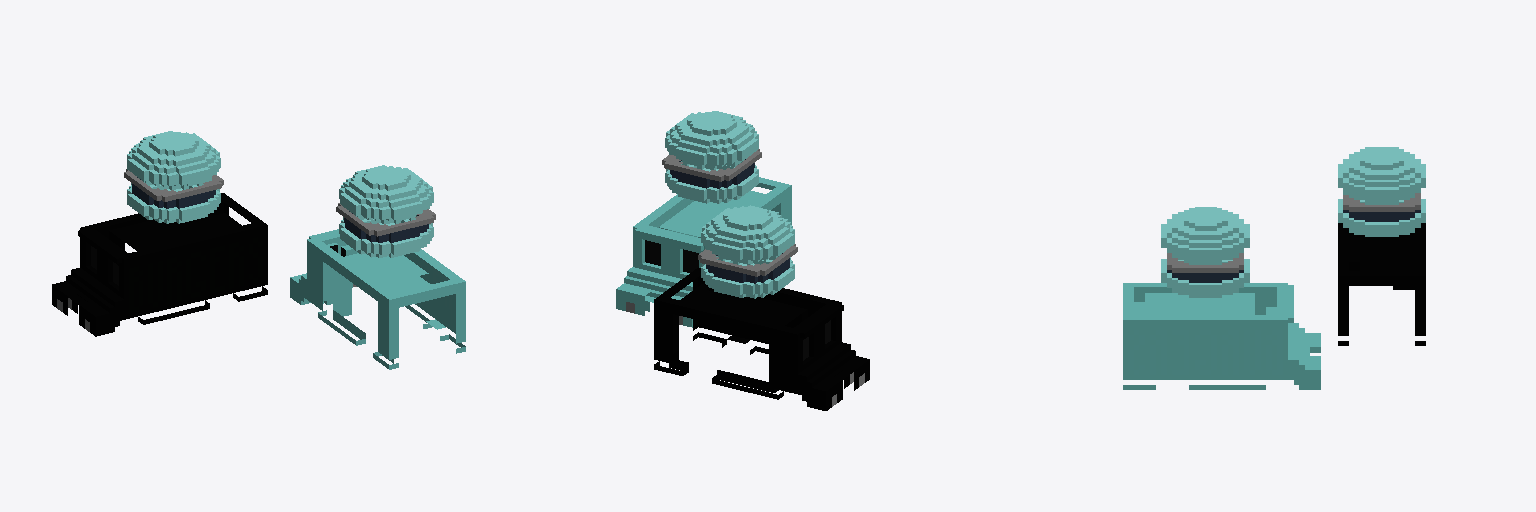
3 renders of one model, left to right at view 1: azimuth 30°, elevation 25°; view 2: azimuth 150°, elevation 25°; view 3: azimuth 270°, elevation 25°, orthographic.
Visible parts, largest first — view 1: burgers1; view 2: burgers1; view 3: burgers1.
Part boxes in pixels (left/top/right/bottom): burgers1: left=52, top=131, right=465, bottom=369; burgers1: left=616, top=111, right=869, bottom=410; burgers1: left=1123, top=147, right=1425, bottom=389.
Bounding box in the file's own units: 55 × 34 × 57.
Materials: 1 (1 with a texture image).